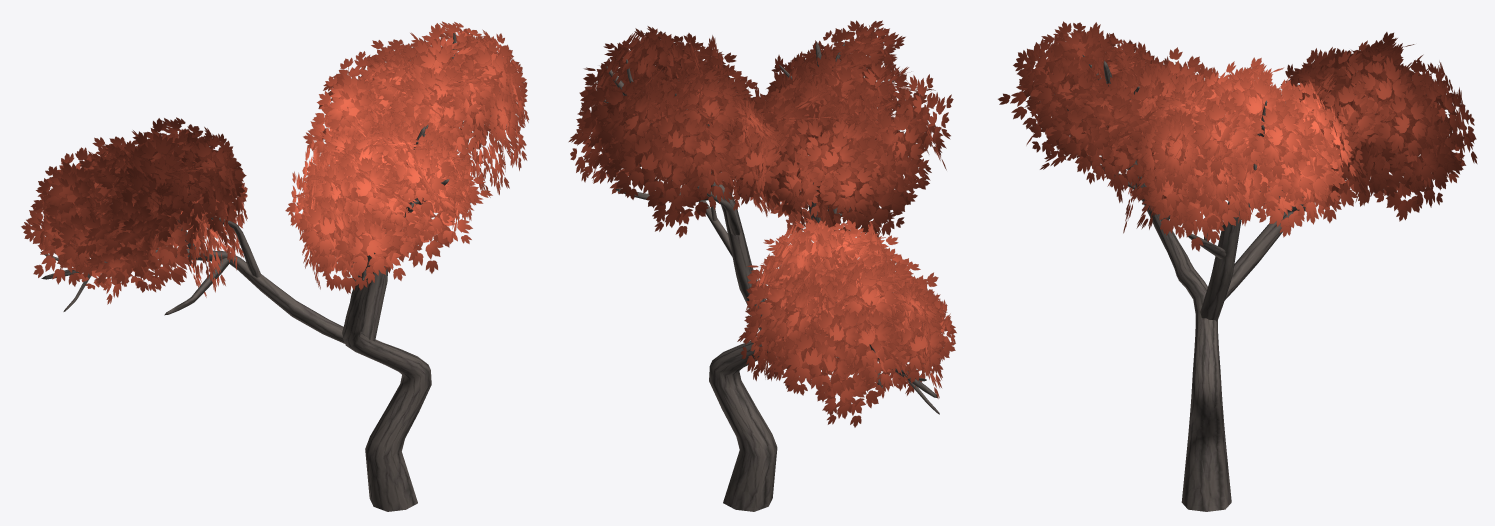
File: MapleTree_2.glb
The picture shows the model from 3 angles, left to right: view 1: azimuth 30°, elevation 25°; view 2: azimuth 150°, elevation 25°; view 3: azimuth 270°, elevation 25°; orthographic projection. The views are drawn at different scales.
Visible parts, largest first — view 1: MapleTree_2; view 2: MapleTree_2; view 3: MapleTree_2.
Part boxes in pixels (box(x1,y1,x2,y2)): MapleTree_2: box(21, 21, 529, 511); MapleTree_2: box(568, 20, 956, 511); MapleTree_2: box(998, 21, 1477, 511).
Bounding box in the file's own units: 6.7 × 6.71 × 6.24.
Materials: 2 (2 with a texture image).
